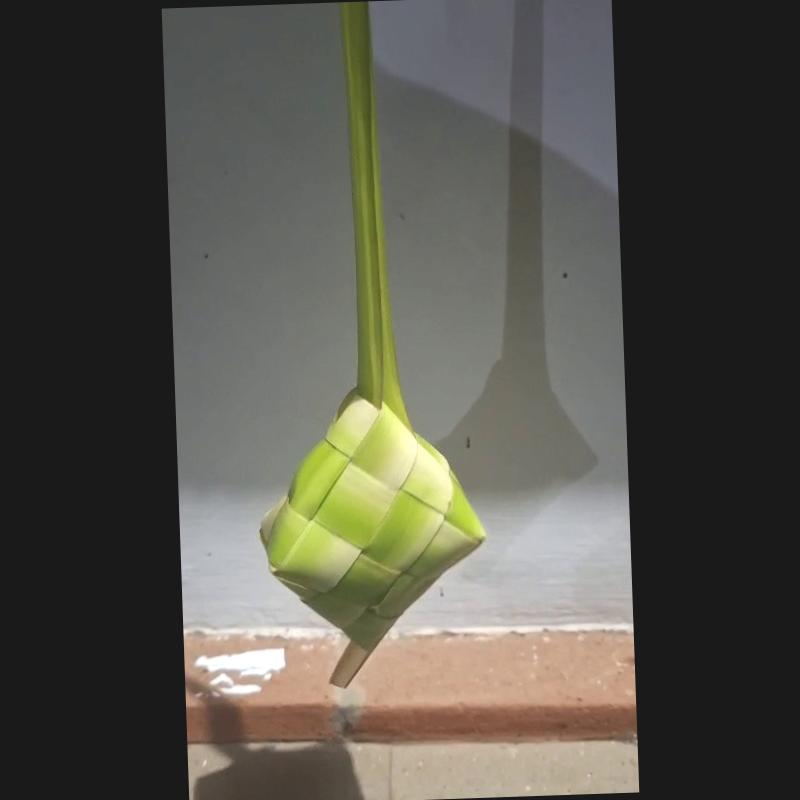Tipat Nasi: (254, 377, 492, 697)
